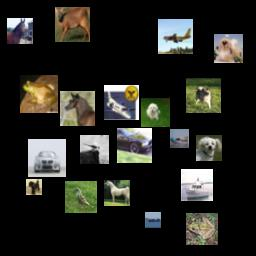airplane: (158, 19, 193, 54), (104, 85, 139, 120)
automobile: (28, 139, 66, 177), (117, 128, 152, 163)
bird: (65, 181, 97, 213), (80, 135, 109, 164)
deer: (55, 7, 90, 42)
dog: (186, 78, 221, 113), (214, 34, 243, 63), (141, 98, 170, 127), (196, 135, 222, 161), (26, 179, 42, 195)
frog: (20, 75, 58, 113), (186, 213, 218, 245)
ship: (181, 169, 213, 201), (170, 129, 189, 148), (145, 212, 161, 228)
